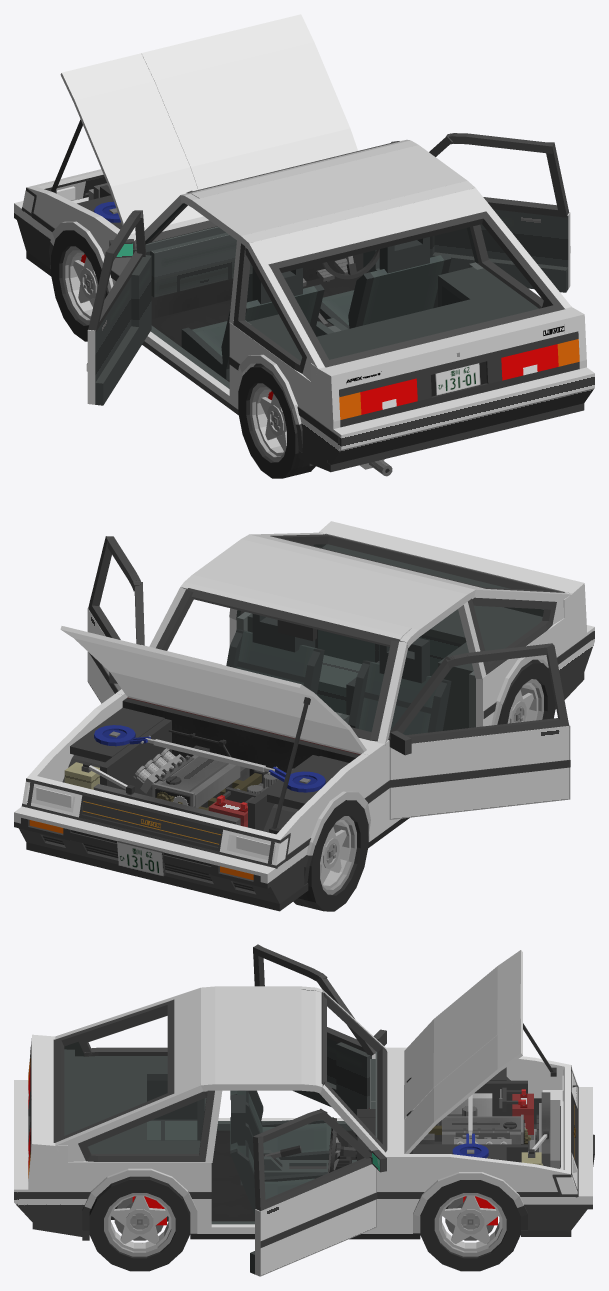
The picture shows the model from 3 angles, top to bottom: view 1: azimuth 30°, elevation 25°; view 2: azimuth 150°, elevation 25°; view 3: azimuth 270°, elevation 25°; orthographic projection. The views are drawn at different scales.
Parts seen in each view (by area): view 1: hood (×8), cabinex (×14), back (×9), mid (×9), rightdoor (×5), leftdoor (×5), driversseat (×3), front (×2), passengerseat; view 2: cabinex (×15), mid (×14), leftdoor (×6), front (×15), hood (×4), back (×3), passengerseat (×3), driversseat (×2), rightdoor (×3), 4age (×2), radiator, suspension_left (+2 smaller); view 3: cabinex (×20), mid (×17), hood (×7), rightdoor (×6), back (×8), front (×7), leftdoor (×5), radiator (×3), passengerseat, 4age, driversseat (×2), tank (+1 smaller).
Boxes of the visible parts, x1,y1,x2,y2 form: hood (×8): (60, 14, 357, 233); cabinex (×14): (192, 140, 571, 373); back (×9): (302, 307, 587, 470); mid (×9): (144, 226, 538, 408); rightdoor (×5): (430, 133, 570, 292); leftdoor (×5): (87, 249, 151, 405); driversseat (×3): (352, 240, 444, 327); front (×2): (26, 192, 96, 268); passengerseat: (245, 286, 317, 324); cabinex (×15): (156, 535, 571, 745); mid (×14): (70, 544, 543, 838); leftdoor (×6): (388, 643, 570, 819); front (×15): (22, 713, 344, 909); hood (×4): (60, 626, 366, 753); back (×3): (319, 523, 580, 695); passengerseat (×3): (348, 639, 437, 735); driversseat (×2): (237, 617, 316, 685); rightdoor (×3): (87, 536, 144, 703); 4age (×2): (160, 756, 240, 807); radiator: (93, 784, 240, 825); suspension_left: (153, 739, 265, 771); cabinex (×20): (53, 987, 387, 1162); mid (×17): (64, 1049, 527, 1239); hood (×7): (404, 950, 522, 1153); rightdoor (×6): (253, 1108, 377, 1276); back (×8): (14, 1035, 197, 1230); front (×7): (456, 1067, 592, 1230); leftdoor (×5): (253, 946, 375, 1115); radiator (×3): (541, 1092, 560, 1168); passengerseat: (277, 1123, 326, 1152); 4age: (442, 1117, 520, 1131); driversseat (×2): (230, 1110, 255, 1214); tank: (449, 1093, 492, 1116).
Bounding box in the file's own units: 4.29 × 2.05 × 5.05.
1 material, 1 textured.
